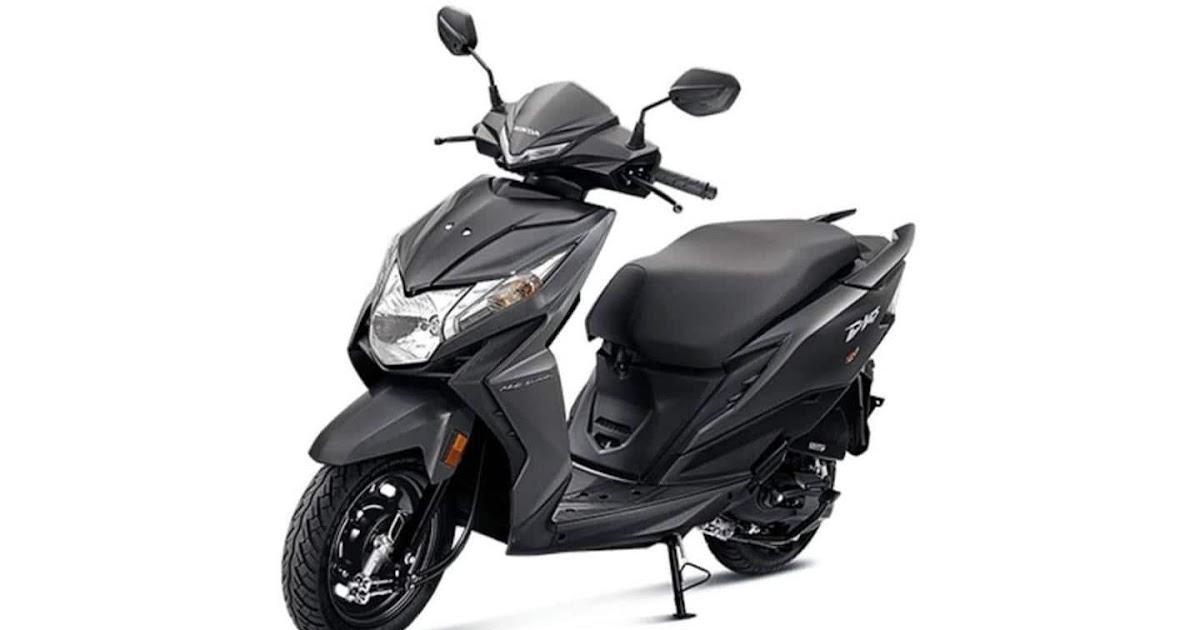motorbike: (281, 7, 916, 630)
